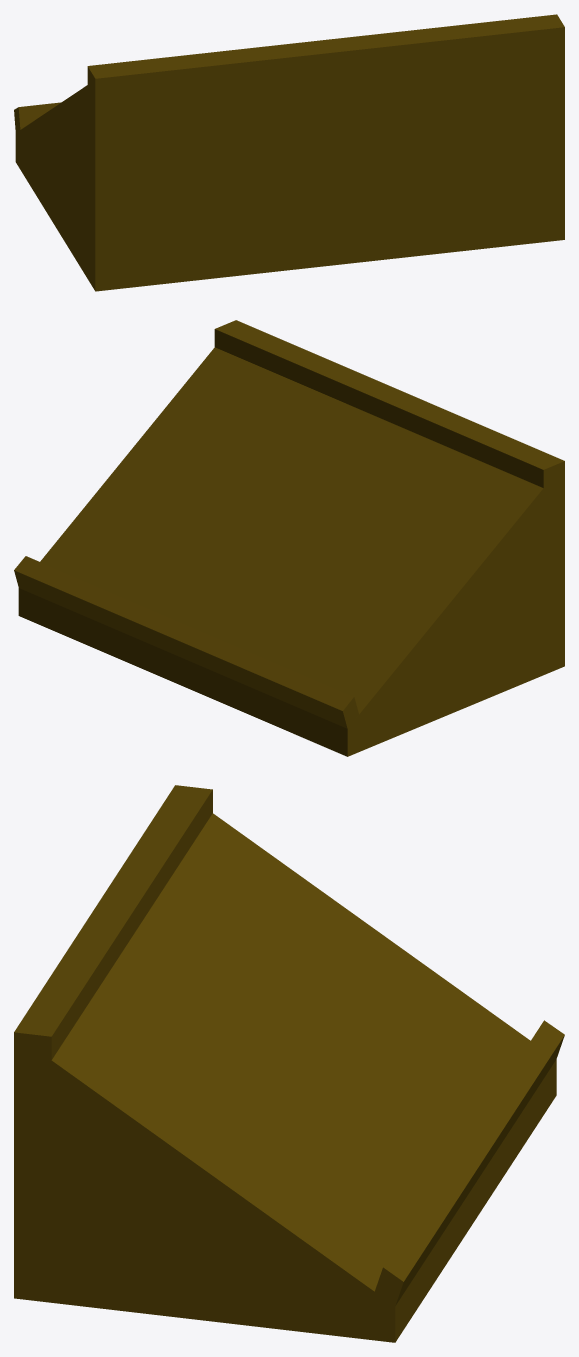
Rendered from 3d lectern_rodri.fbx.
3 views of the same model, one above another, from view 1: azimuth 30°, elevation 25°; view 2: azimuth 150°, elevation 25°; view 3: azimuth 270°, elevation 25° (orthographic). The views are drawn at different scales.
Parts seen in each view (by area): view 1: d_lectern_rodri:pCube1; view 2: d_lectern_rodri:pCube1; view 3: d_lectern_rodri:pCube1.
Boxes of the visible parts, x1,y1,x2,y2 form: d_lectern_rodri:pCube1: (14,14,564,291); d_lectern_rodri:pCube1: (14,320,564,756); d_lectern_rodri:pCube1: (14,785,564,1342).
Size of the model in its own units: 49.11 by 20.82 by 39.08.
